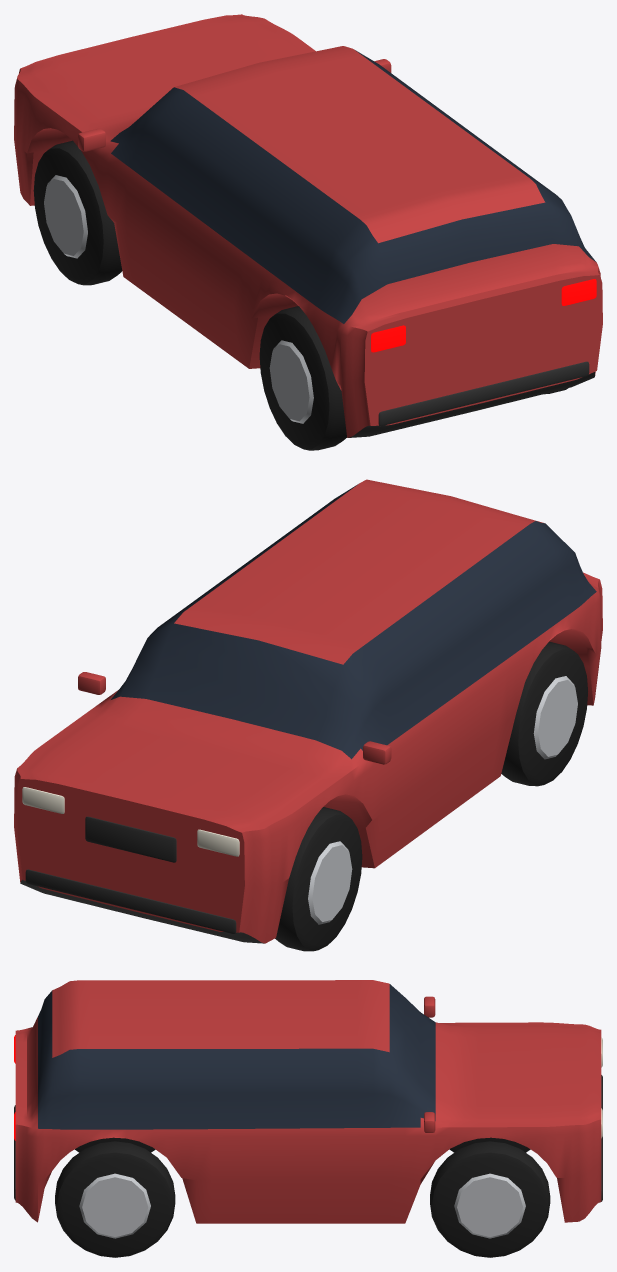
Rendered from SUV.fbx.
3 views of the same model, one above another, from view 1: azimuth 30°, elevation 25°; view 2: azimuth 150°, elevation 25°; view 3: azimuth 270°, elevation 25° (orthographic). The views are drawn at different scales.
Parts seen in each view (by area): view 1: SUV_Body, SUV_Glass, SUV_Tire, SUV_Rim, SUV_Trim, SUV_Taillight; view 2: SUV_Body, SUV_Glass, SUV_Tire, SUV_Trim, SUV_Rim, SUV_Headlight; view 3: SUV_Body, SUV_Glass, SUV_Tire, SUV_Rim.
Part boxes in pixels (x1,y1,x2,y2): SUV_Body: (14,14,602,437); SUV_Glass: (110,49,595,323); SUV_Tire: (33,140,568,450); SUV_Rim: (44,175,313,423); SUV_Trim: (348,361,594,437); SUV_Taillight: (371,279,596,352); SUV_Body: (14,479,602,943); SUV_Glass: (111,484,596,759); SUV_Tire: (275,641,587,951); SUV_Trim: (20,816,264,943); SUV_Rim: (308,676,577,924); SUV_Headlight: (22,787,239,856); SUV_Body: (15,980,601,1223); SUV_Glass: (38,984,435,1129); SUV_Tire: (55,1137,550,1257); SUV_Rim: (79,1173,525,1238).
Size of the model in its own units: 9.1 by 6.65 by 18.1.
